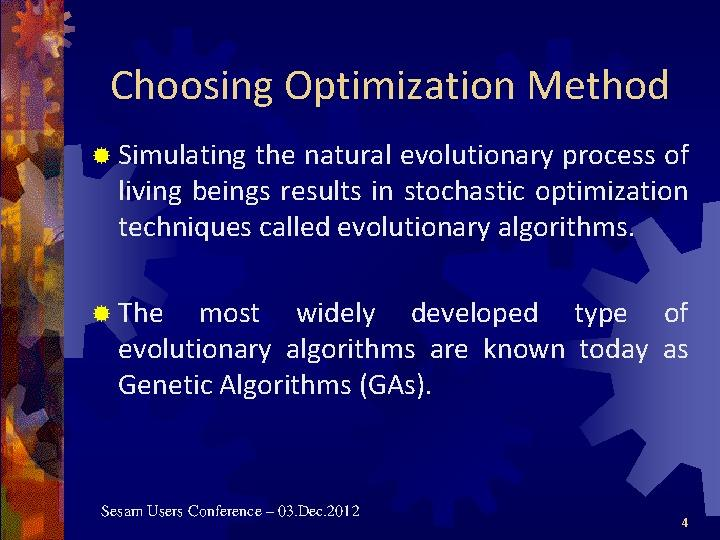paragraph: (79, 135, 710, 411)
title: (99, 52, 683, 119)
